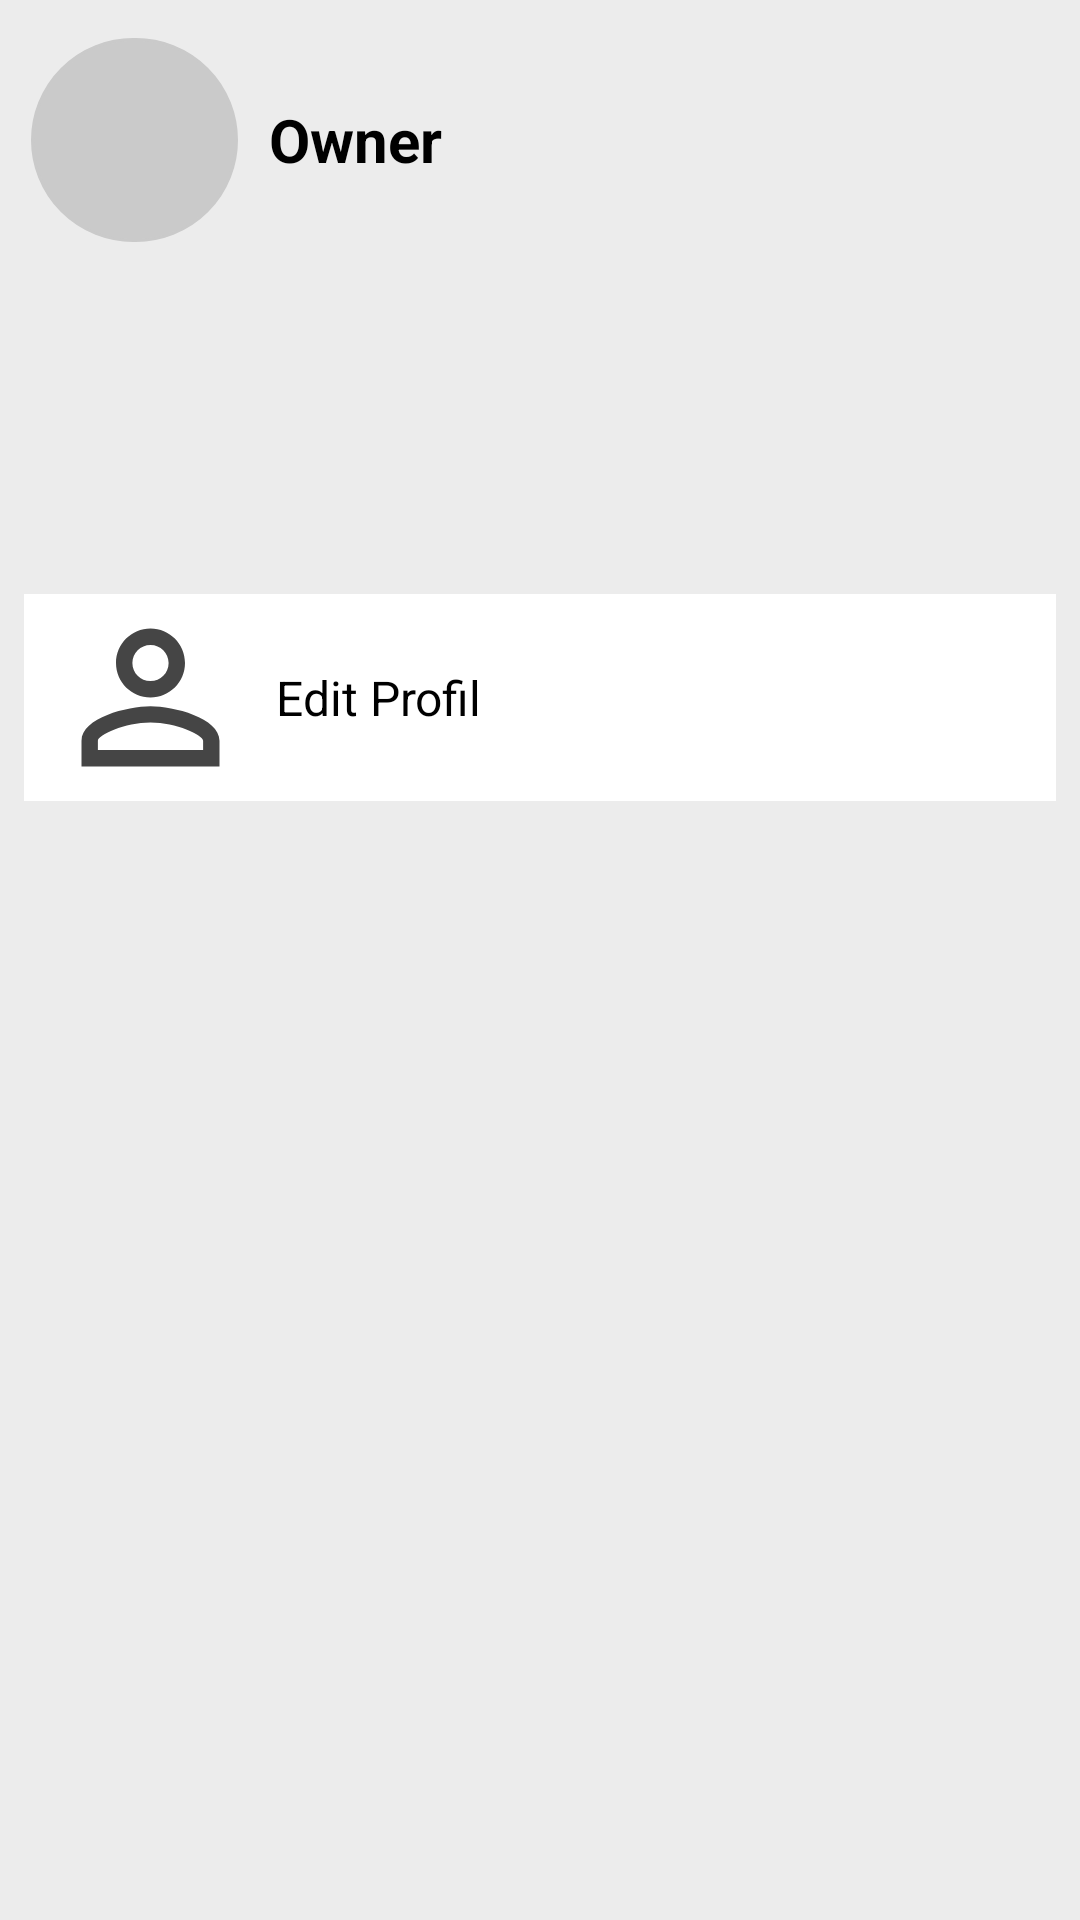

Where icons sit on this 1080 x 1920 app screen, as (x1, y1, x2, y2):
person: (24, 594, 276, 801)
